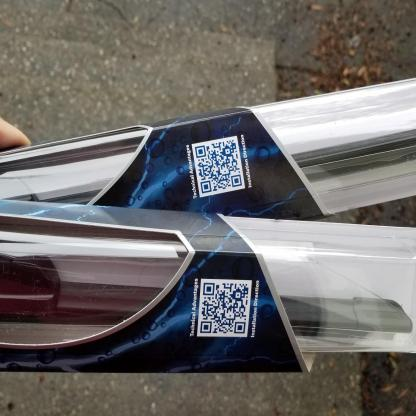qr: (197, 279, 251, 335), (193, 138, 244, 191)
